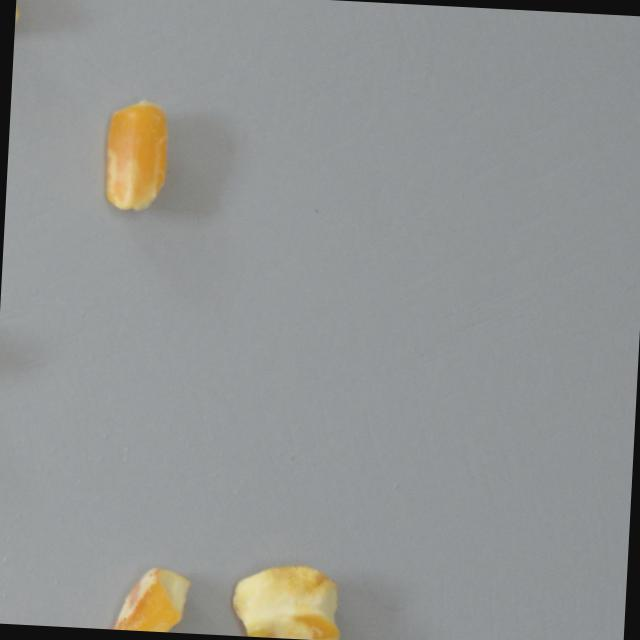pelicula: (98, 96, 175, 216), (231, 561, 345, 640), (108, 562, 196, 634)
